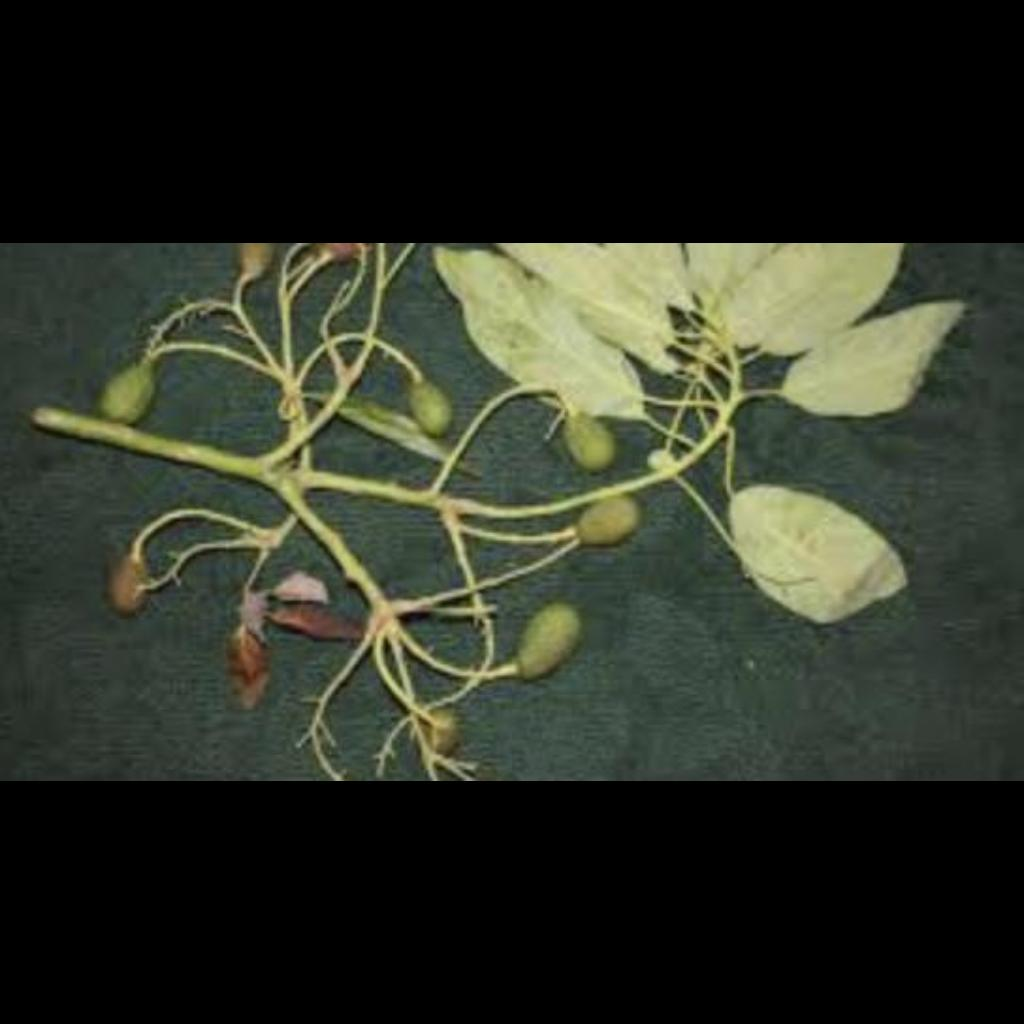Healthy: (518, 604, 590, 680), (554, 412, 632, 474), (578, 496, 654, 548), (396, 382, 460, 434), (98, 370, 160, 422)
